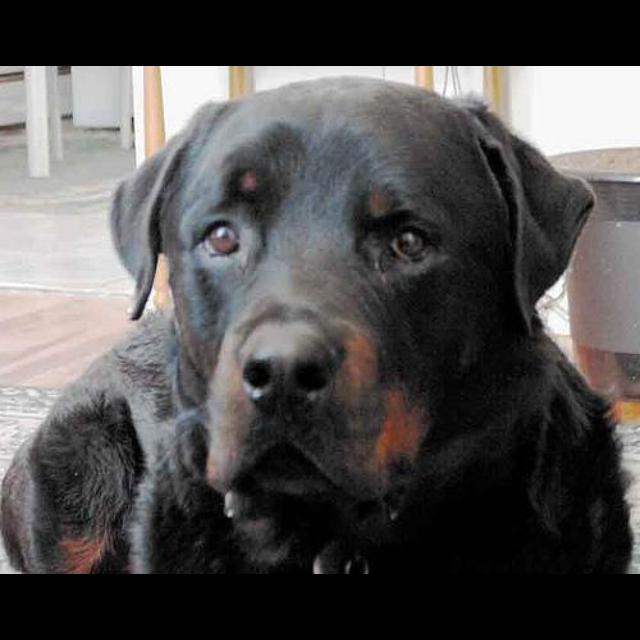rottweiler: (2, 75, 635, 574)
